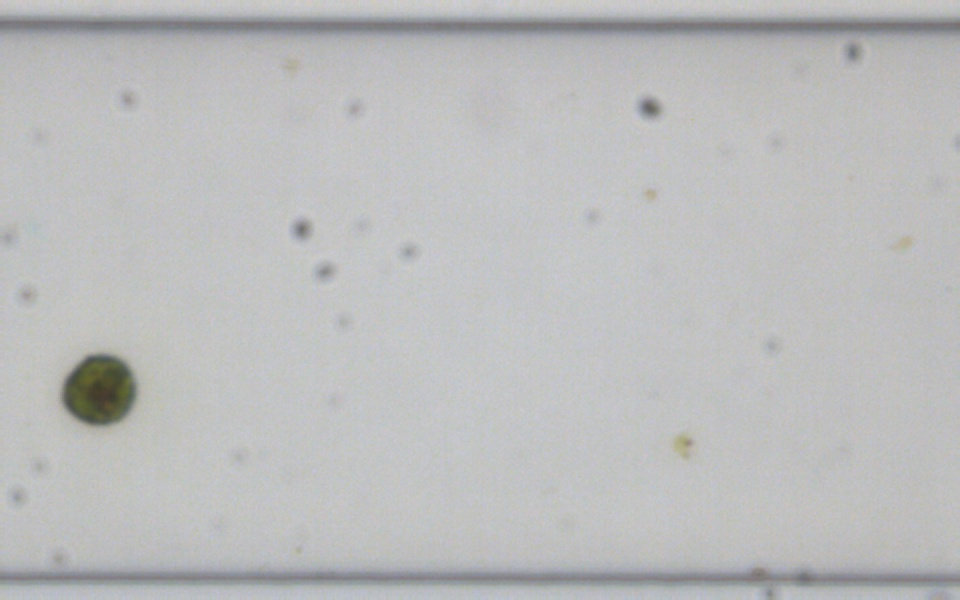Haematococcus: (57, 350, 139, 428)
